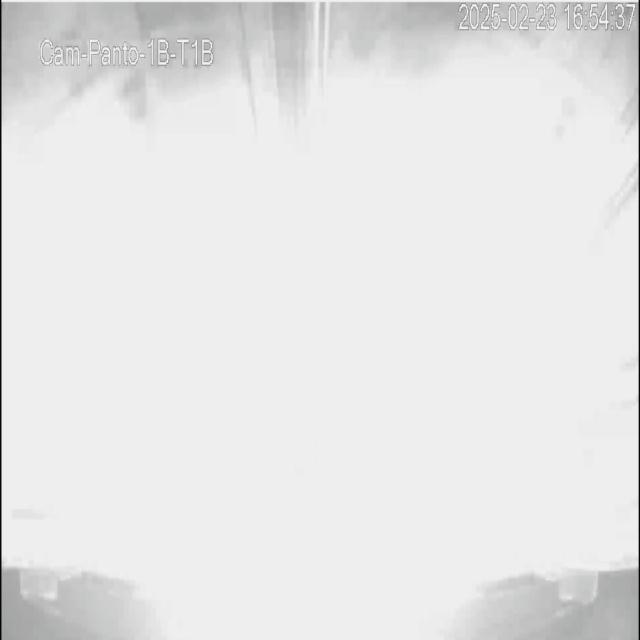Camera Stamp: (37, 30, 218, 71)
Date Stamp: (452, 0, 640, 42)
Sparks: (13, 71, 639, 588)
